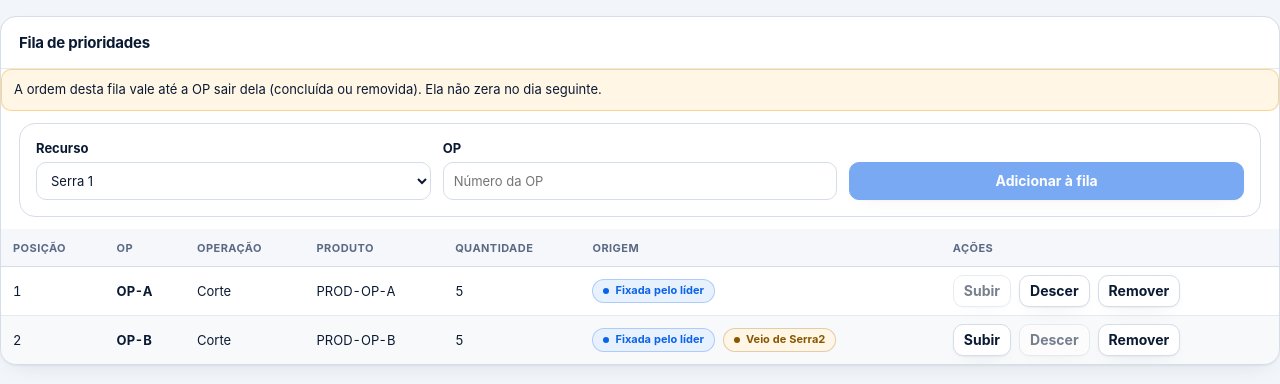
Test case: Fila de prioridades por recurso › remove com DELETE e atualiza a lista
The image size is (1280, 384).
Check: the text "OP-A" is shown, box [117,282,152,298]
Click the button with aria-label "Remover OP OP-A da fila" at (1139, 290), box [1098,274,1180,306]
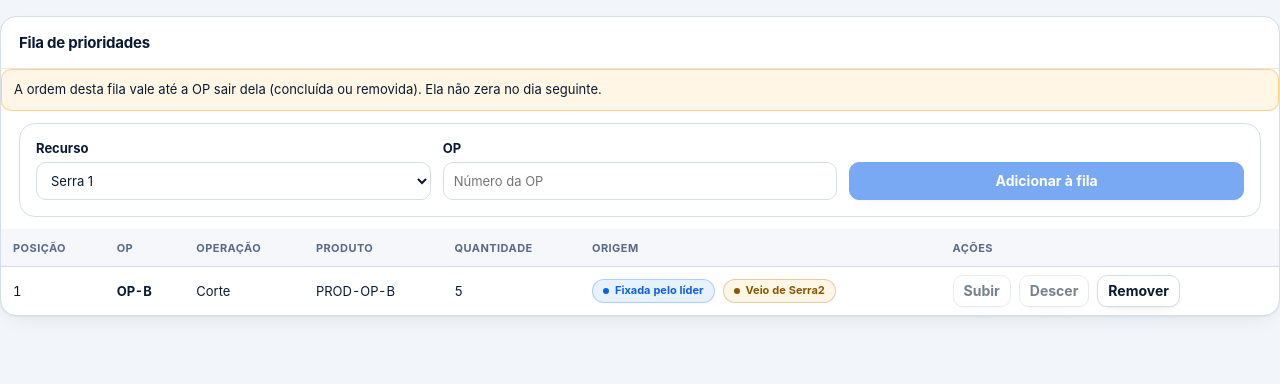
Check: the text "OP-B" is shown, box [117,282,152,298]
Check: the text "OP-A" is gone
